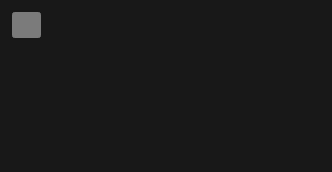
Scenario: shows a voice sample loading until it plays, lets a press cancel it, and says when it fails
This screenshot has width=332, height=172.
Later steps or results of the test are not shown.
Click the button named "Play official sample": (26, 25) [12, 12, 41, 38]
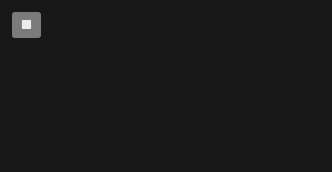
Now the button named "Stop sample" has attribute data-state="playing"
Click the button named "Stop sample": (26, 25) [12, 12, 41, 38]
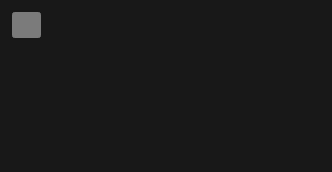
Now the button named "Play official sample" has attribute data-state="idle", box [12, 12, 41, 38]
